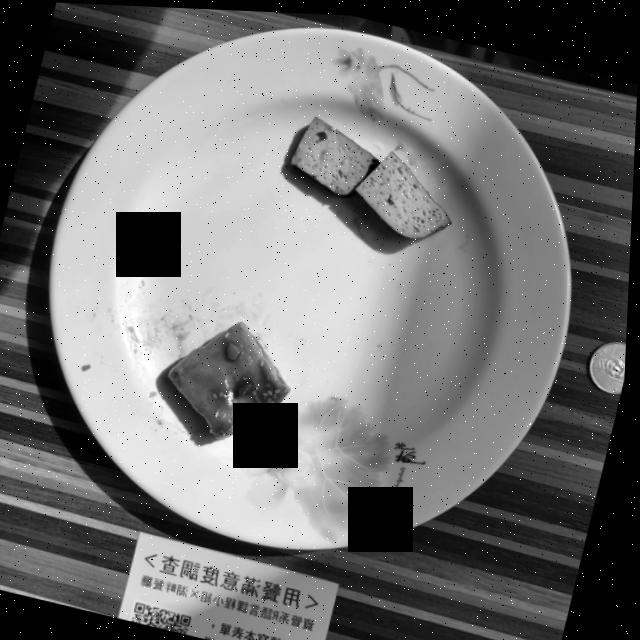coin: (592, 336, 629, 389)
creamy tofu: (172, 319, 293, 436)
firm tofu: (292, 114, 453, 235)
